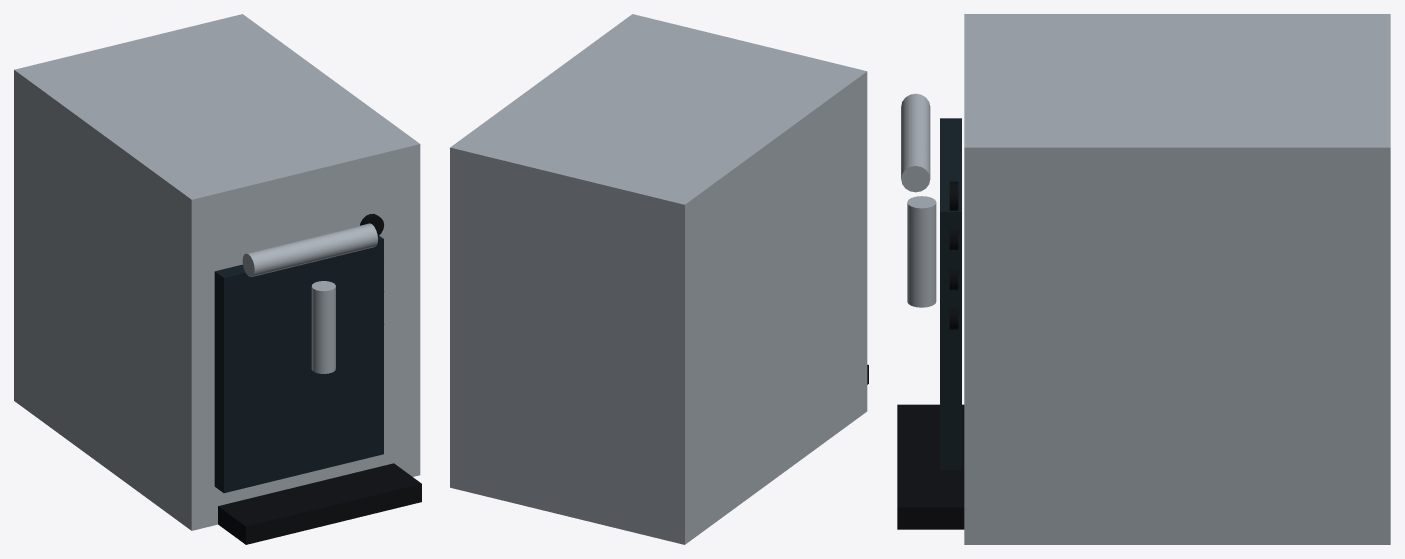
The model's file is Kavefozo.obj.
3 renders of one model, left to right at view 1: azimuth 30°, elevation 25°; view 2: azimuth 150°, elevation 25°; view 3: azimuth 270°, elevation 25°, orthographic. The views are drawn at different scales.
Bounding box in the file's own units: 0.26 × 0.36 × 0.405.
